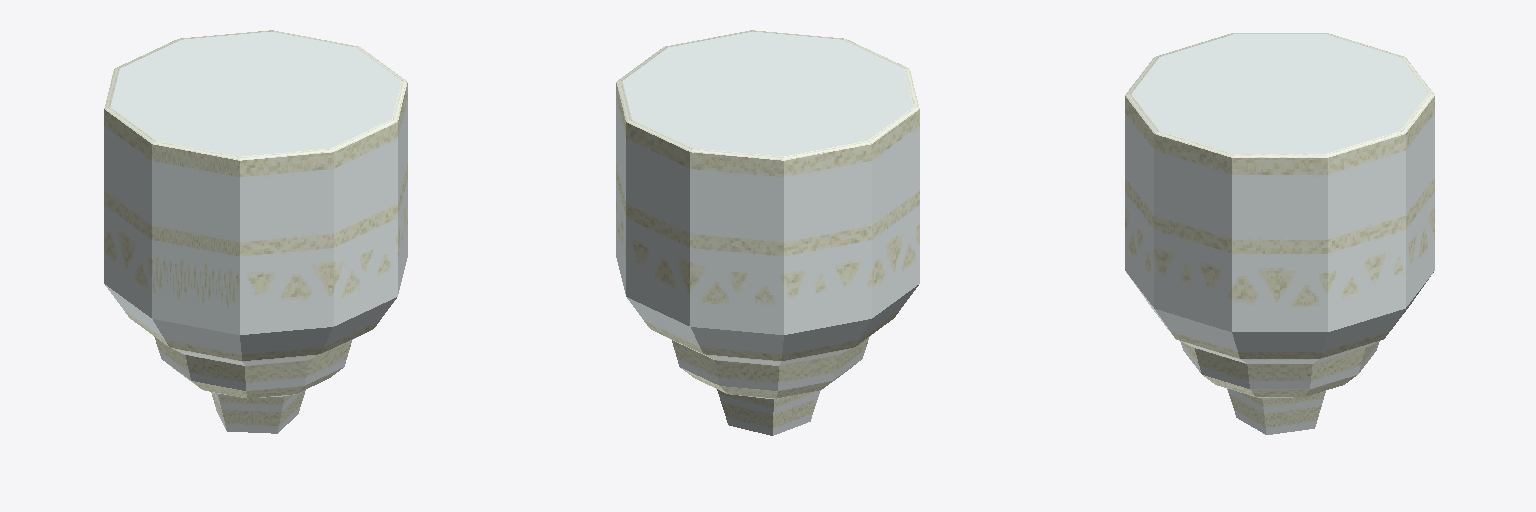
3 views of the same model, side by side, from view 1: azimuth 30°, elevation 25°; view 2: azimuth 150°, elevation 25°; view 3: azimuth 270°, elevation 25° (orthographic).
Bounding box in the file's own units: 80.24 × 97.09 × 84.37.
1 materials, 1 textured.